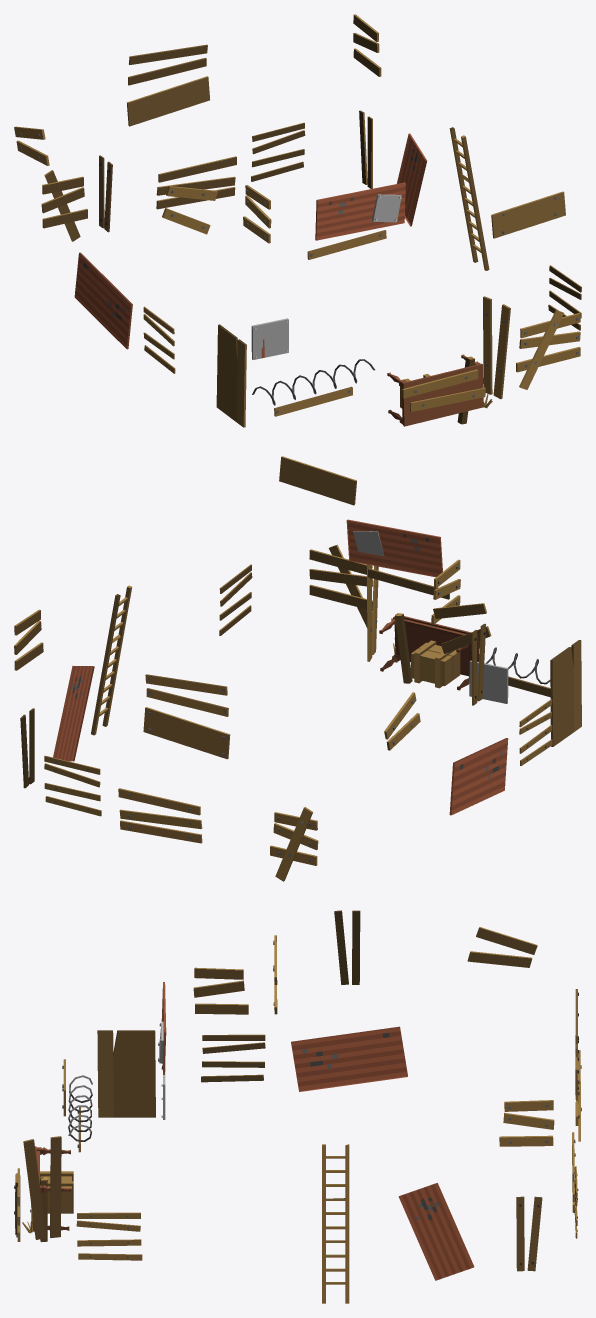
File: SA_Bld_HouseLarge_Extras_01.gltf
3 views of the same model, one above another, from view 1: azimuth 30°, elevation 25°; view 2: azimuth 150°, elevation 25°; view 3: azimuth 270°, elevation 25° (orthographic). The views are drawn at different scales.
Parts seen in each view (by area): view 1: SA_Bld_HouseLarge_Extras_01; view 2: SA_Bld_HouseLarge_Extras_01; view 3: SA_Bld_HouseLarge_Extras_01.
Boxes of the visible parts, left/top/right/bottom form: SA_Bld_HouseLarge_Extras_01: left=14, top=14, right=581, bottom=427; SA_Bld_HouseLarge_Extras_01: left=14, top=456, right=581, bottom=881; SA_Bld_HouseLarge_Extras_01: left=14, top=910, right=581, bottom=1303.
Bounding box in the file's own units: 19.35 × 10.37 × 24.18.
Materials: 1 (1 with a texture image).
